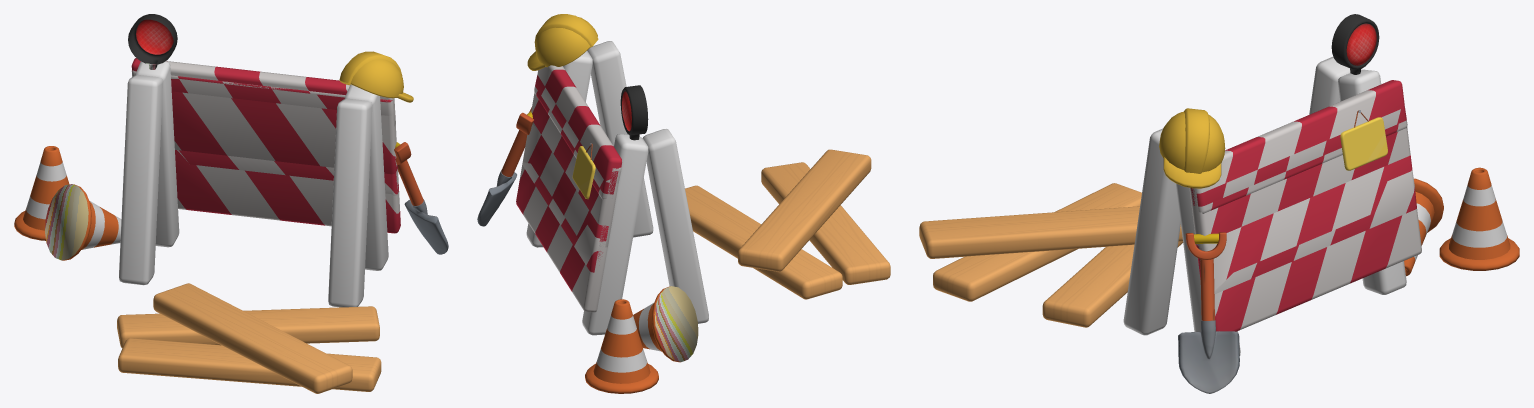
Rendered from ConstructionSite 1.fbx.
The picture shows the model from 3 angles, left to right: view 1: azimuth 30°, elevation 25°; view 2: azimuth 150°, elevation 25°; view 3: azimuth 270°, elevation 25°; orthographic projection. The views are drawn at different scales.
Visible parts, largest first — view 1: Box009, Box007, WoodenPlan2, Box005, Box003, WoodenPlan3, WoodenPlank, Box010, Cylinder004, Box004, Box001, Cylinder001 (+3 smaller); view 2: Box007, WoodenPlan2, Box005, Box009, WoodenPlank, Box004, WoodenPlan3, Cylinder001, Cylinder004, Box003, Sphere001, Box010 (+4 smaller); view 3: Box007, Box009, WoodenPlan2, Box003, WoodenPlan3, Shovel, Box010, Cylinder001, WoodenPlank, Sphere001, Cylinder003, Box008 (+4 smaller).
Boxes of the visible parts, x1,y1,x2,y2 form: Box009: (131,58,397,174); Box007: (131,70,400,233); WoodenPlan2: (153,283,352,393); Box005: (119,75,162,285); Box003: (328,98,372,307); WoodenPlan3: (118,338,381,391); WoodenPlank: (117,306,379,348); Box010: (132,75,398,195); Cylinder004: (45,184,121,260); Box004: (135,61,179,247); Box001: (344,84,388,270); Cylinder001: (14,146,69,240); Box007: (516,75,621,312); WoodenPlan2: (738,149,871,271); Box005: (643,129,708,323); Box009: (531,65,621,247); WoodenPlank: (685,185,842,299); Box004: (582,134,648,335); WoodenPlan3: (761,162,890,284); Cylinder001: (585,299,658,393); Cylinder004: (633,286,698,362); Box003: (587,41,653,237); Sphere001: (527,14,598,70); Box010: (522,86,620,272); Box007: (1191,107,1421,331); Box009: (1190,80,1410,264); WoodenPlan2: (919,206,1182,258); Box003: (1123,128,1180,335); WoodenPlan3: (933,183,1141,301); Shovel: (1178,232,1239,393); Box010: (1189,120,1416,293); Cylinder001: (1439,167,1519,270); WoodenPlank: (1042,241,1183,327); Sphere001: (1159,108,1225,188); Cylinder003: (1331,14,1379,74); Box008: (1340,110,1387,170).
Size of the model in its own units: 12.38 by 7.85 by 16.33.
1 material, 1 textured.
